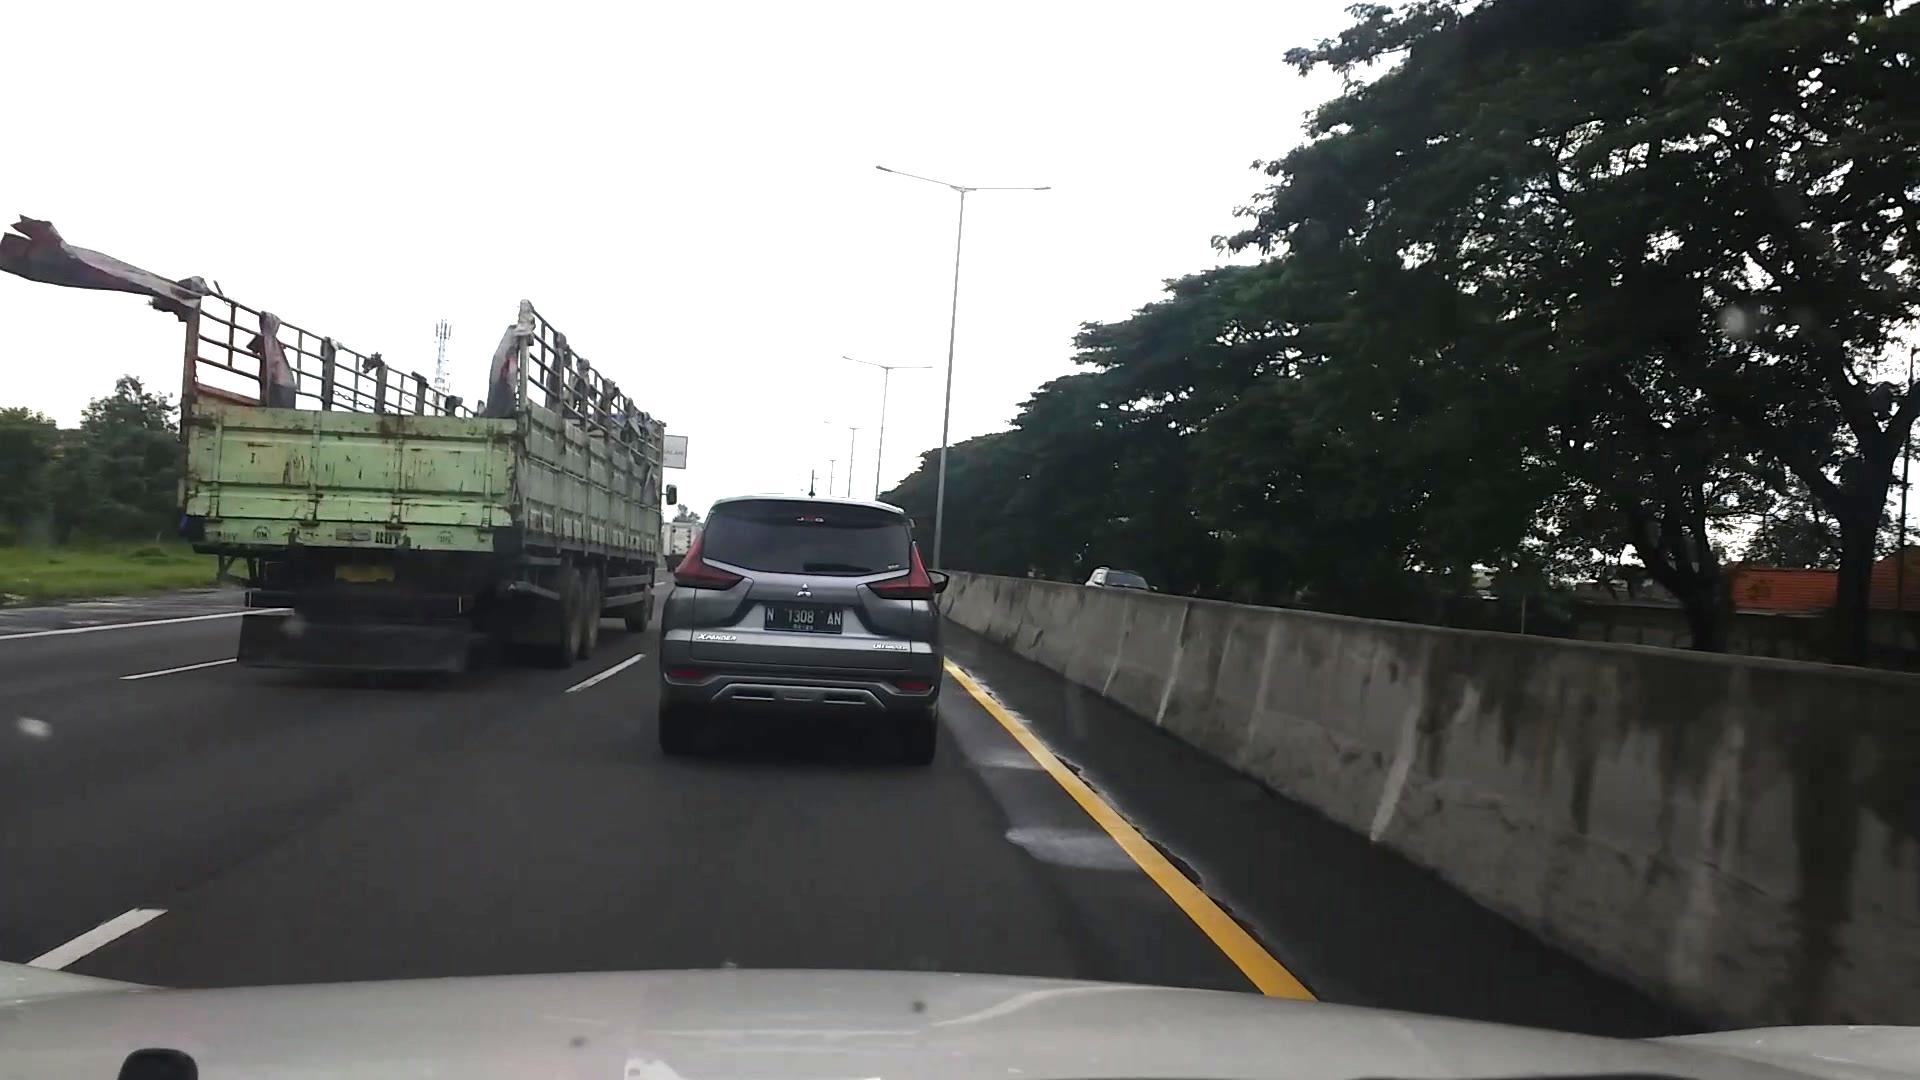plate_positive: (764, 604, 843, 634)
